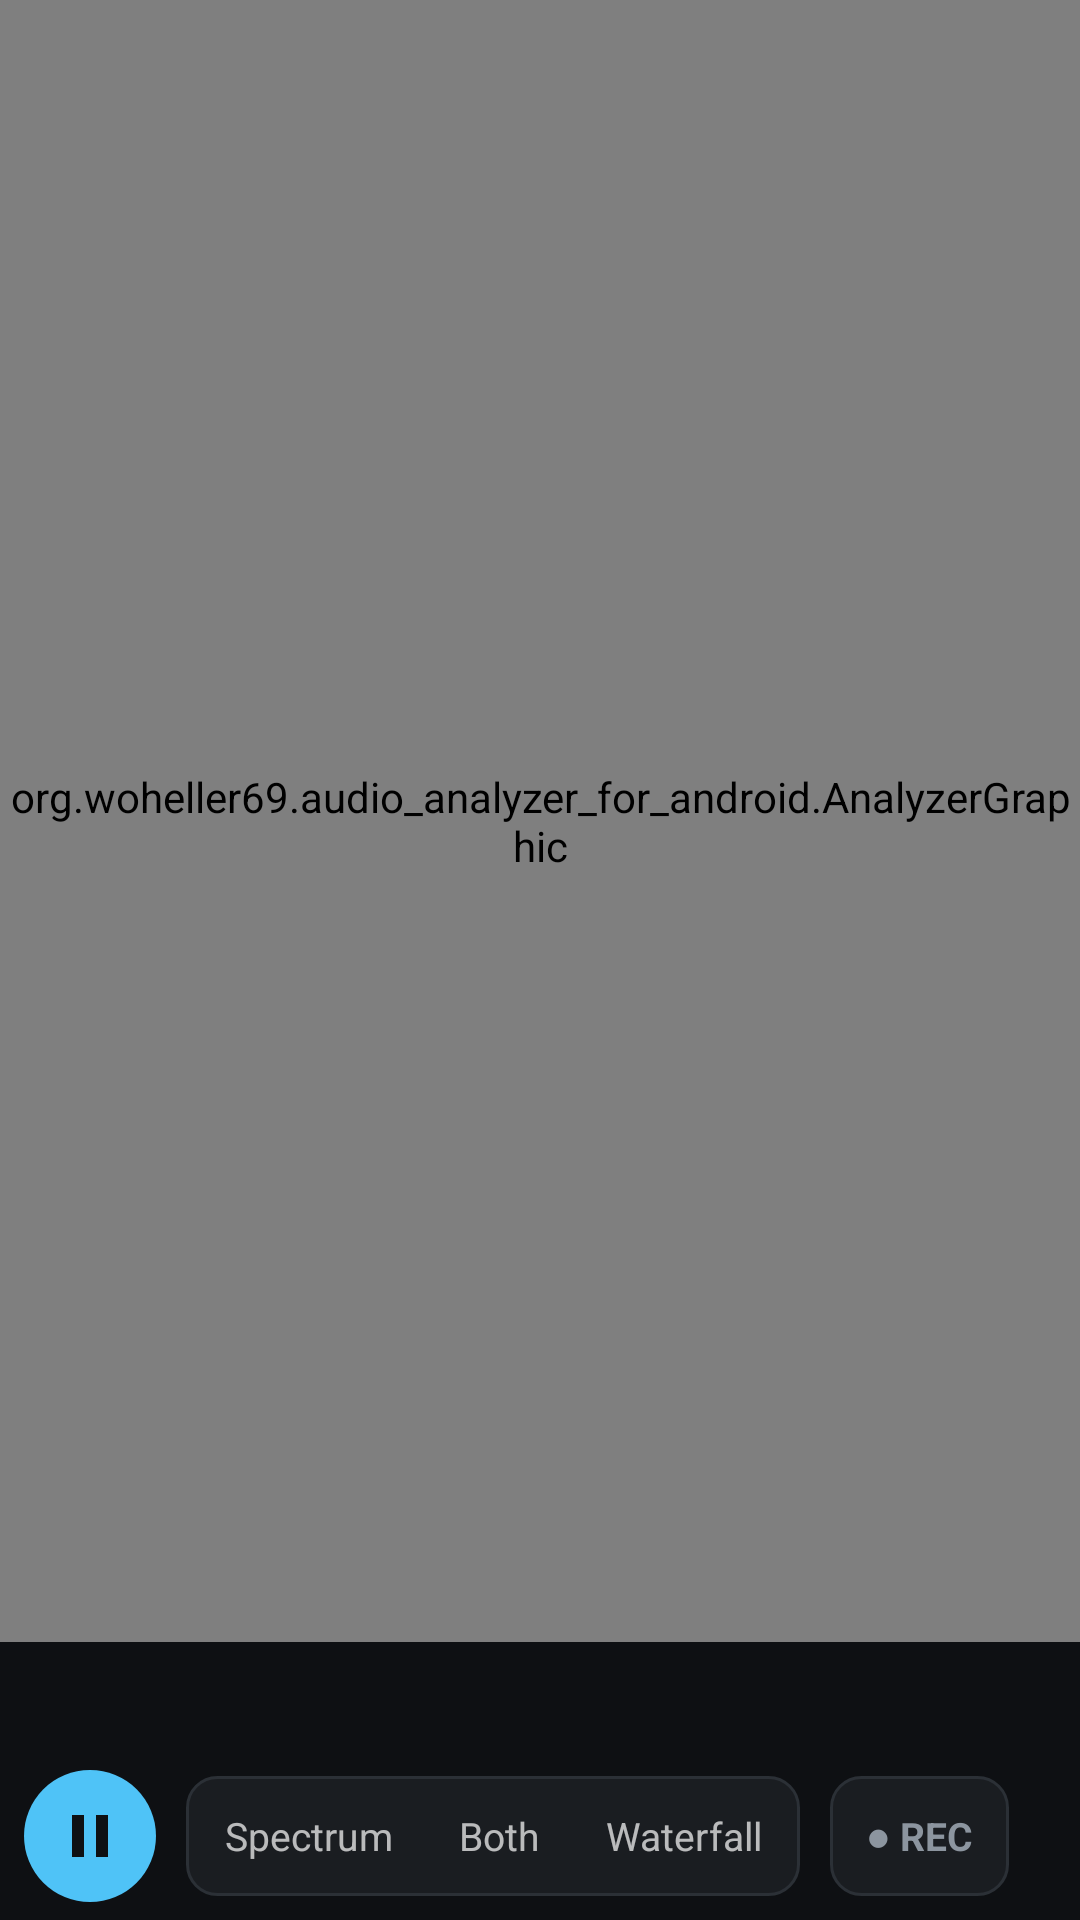

Where to tap for icons on this 1080w x 1920h app screen, as [x,y]:
Run / pause: [90,1836]
